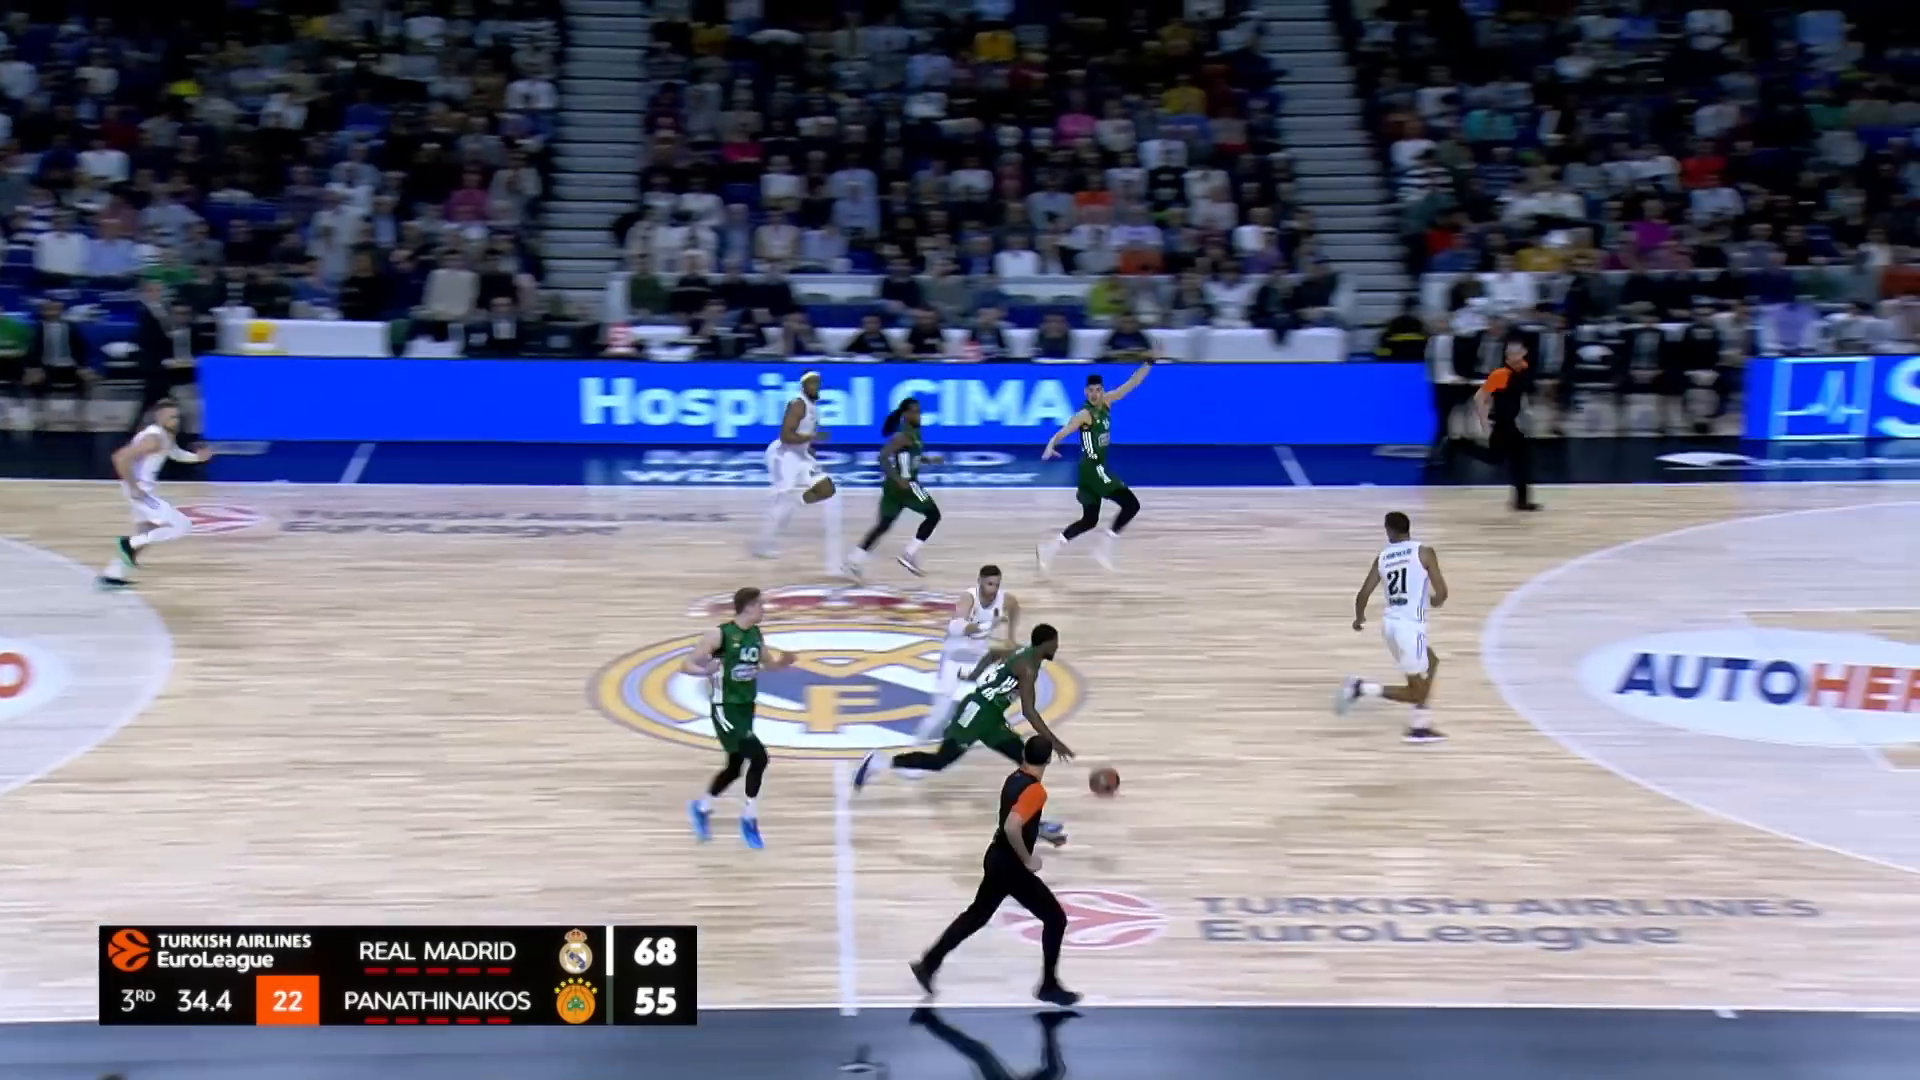ball: (1087, 766, 1124, 800)
